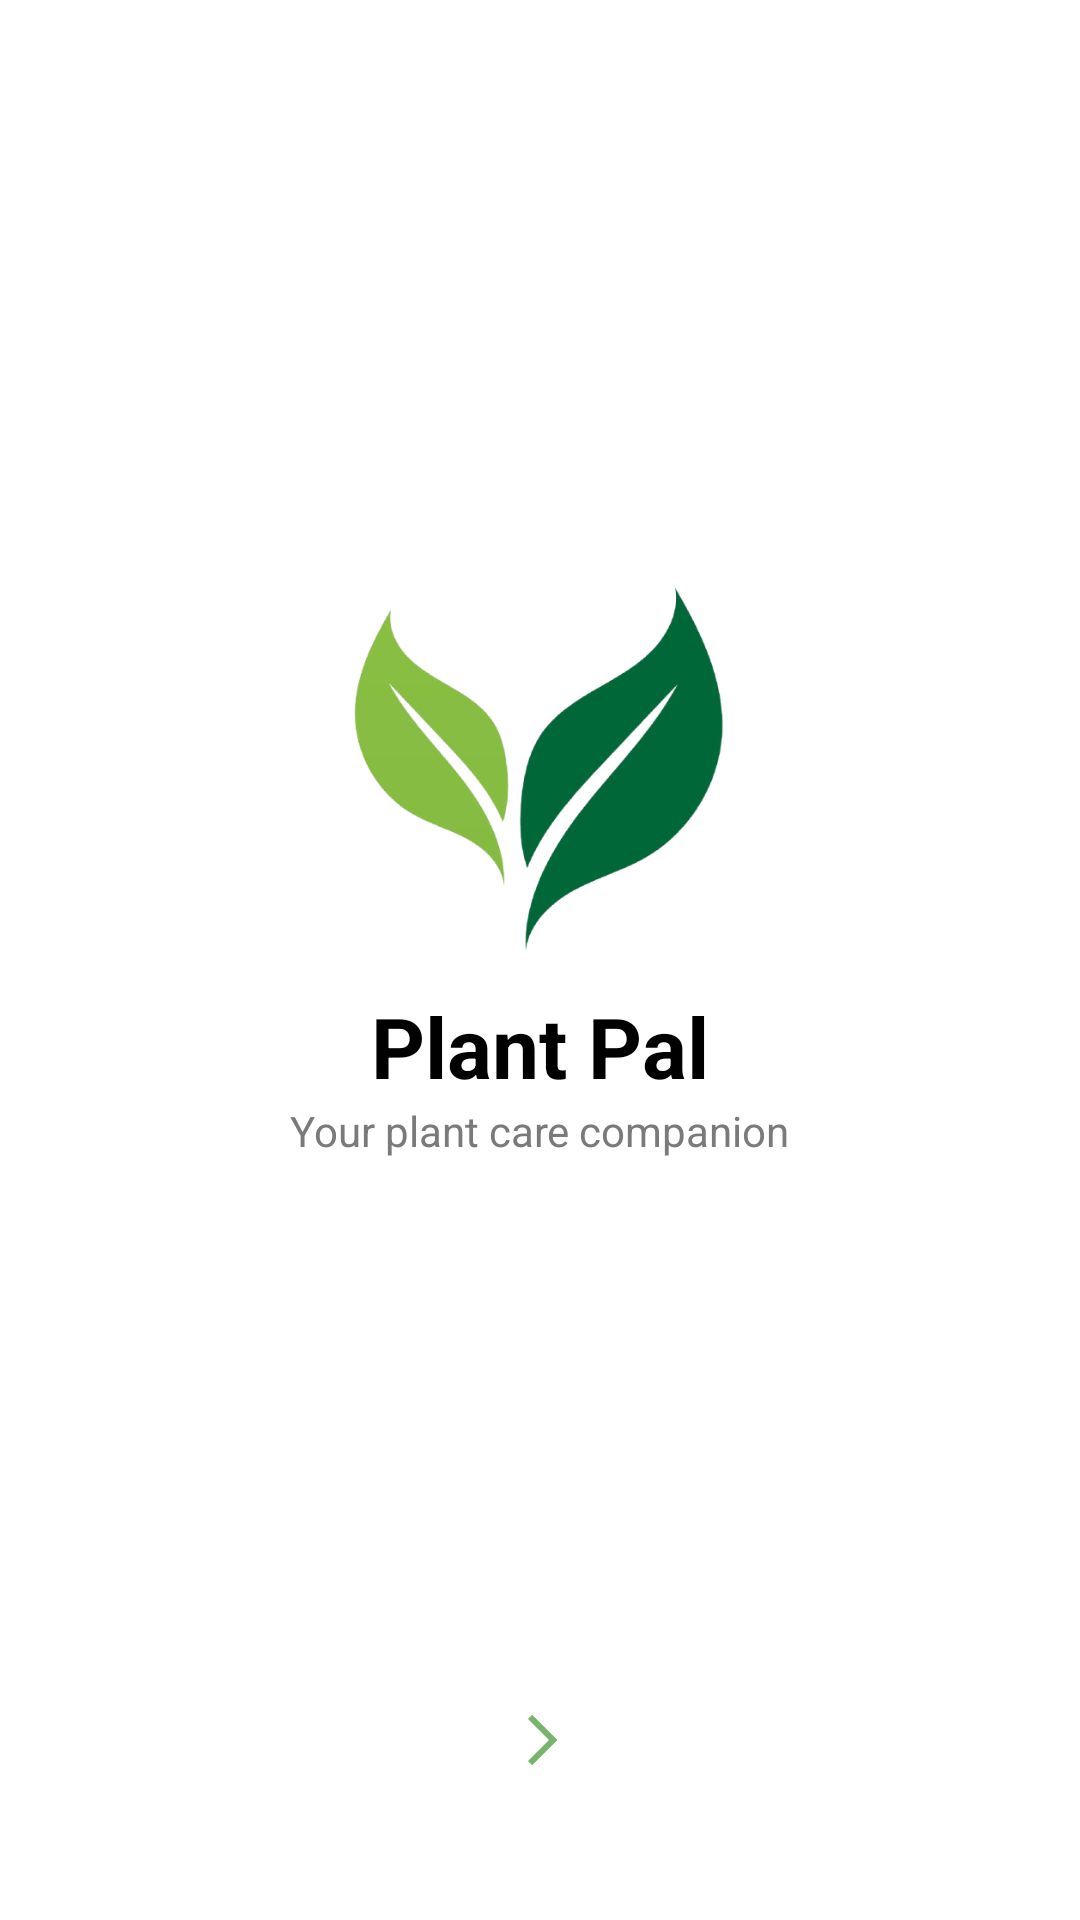

Locate icon controls on the screen. Image size 1080px×1920px, boxes as (x1, y1, x2, y2).
Next: (528, 1715, 557, 1765)
